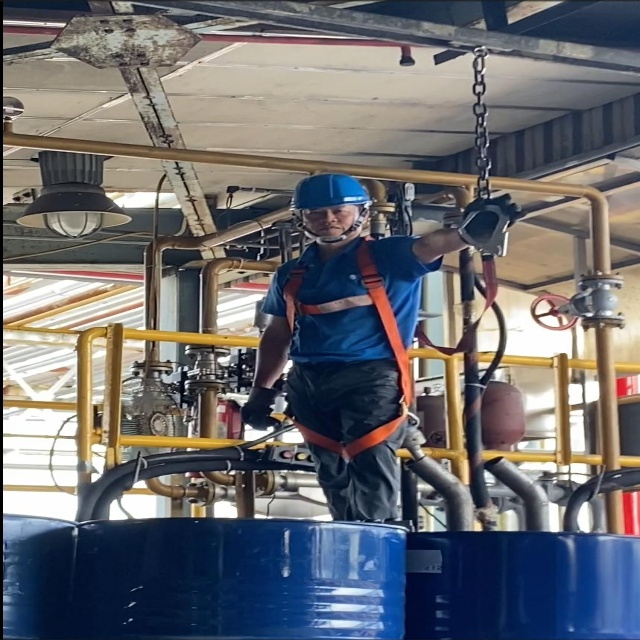Arnes_seguridad: (276, 242, 419, 465)
